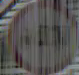Heavy Vehicles: (9, 5, 71, 61)
